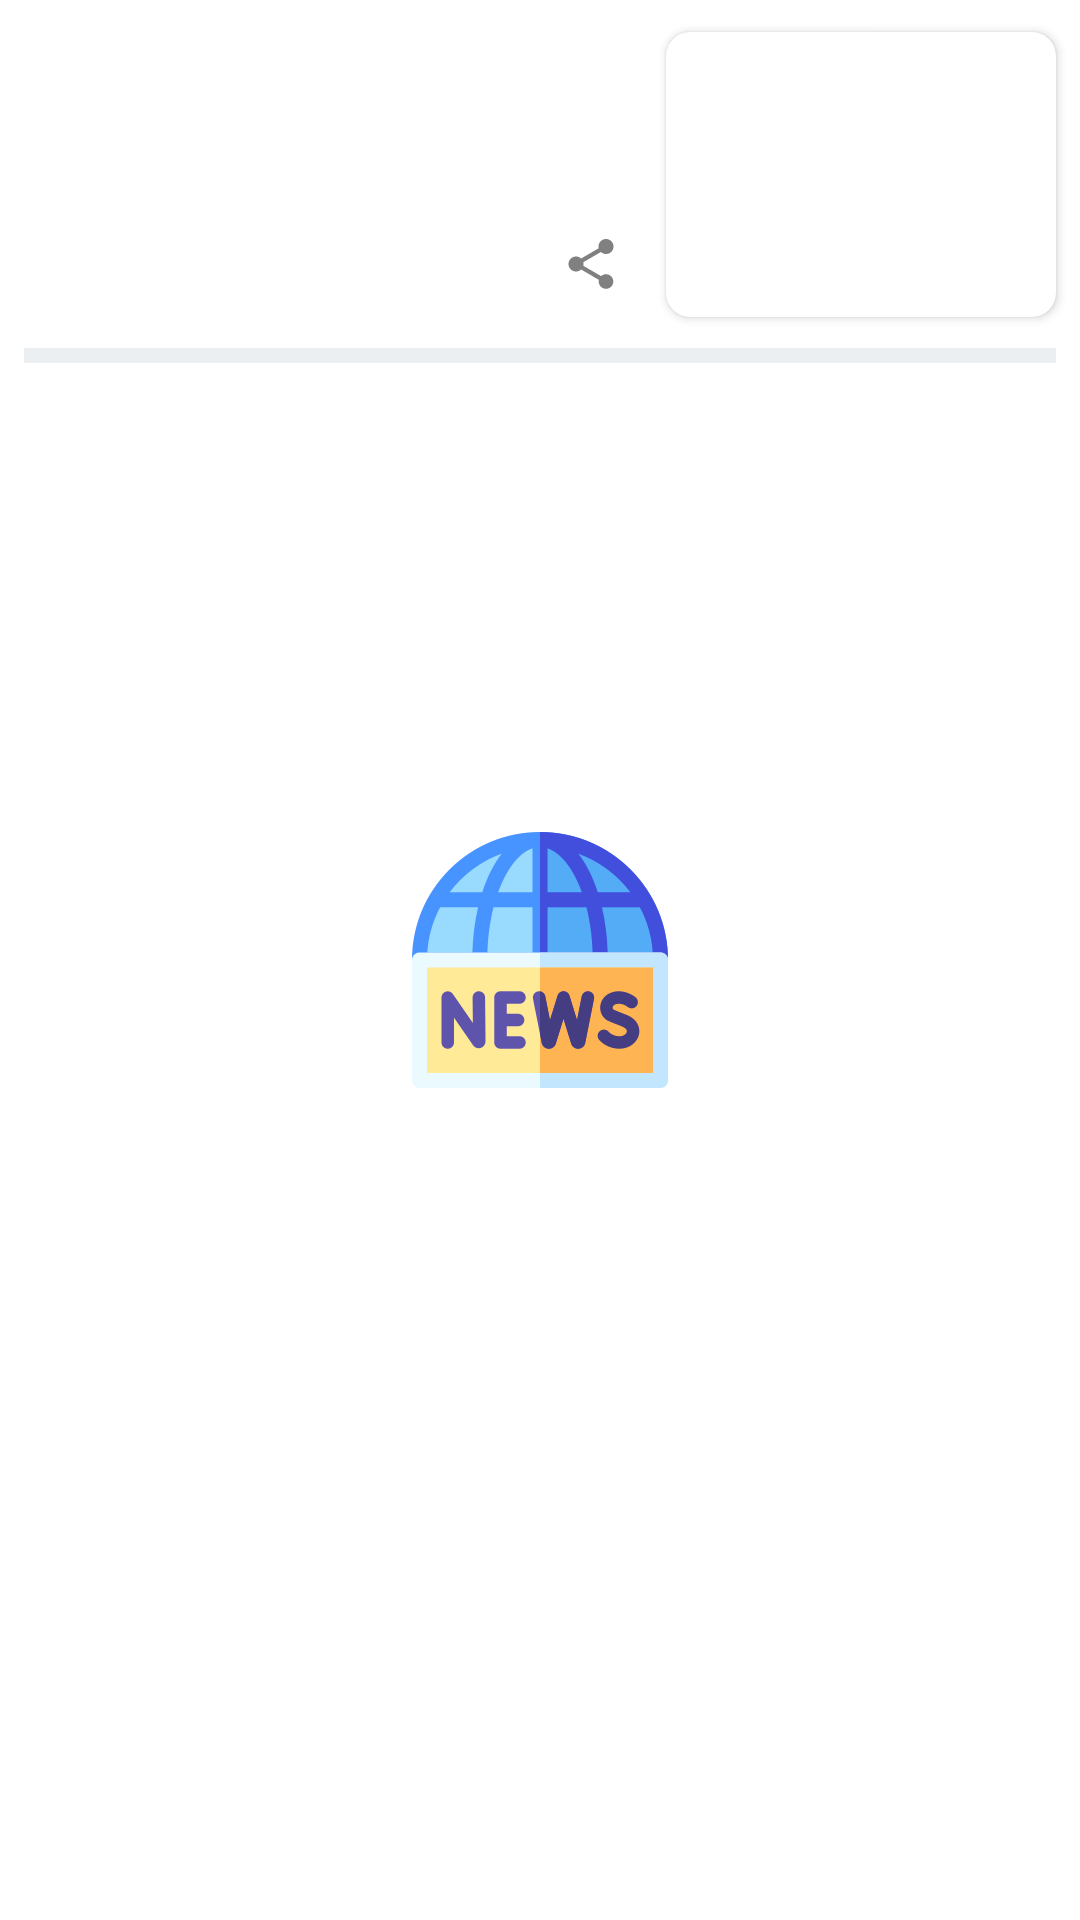

Named icons in this screenshot (1080 x 1920) and their centers, (x=x, y=y):
share an article: (x=591, y=264)
